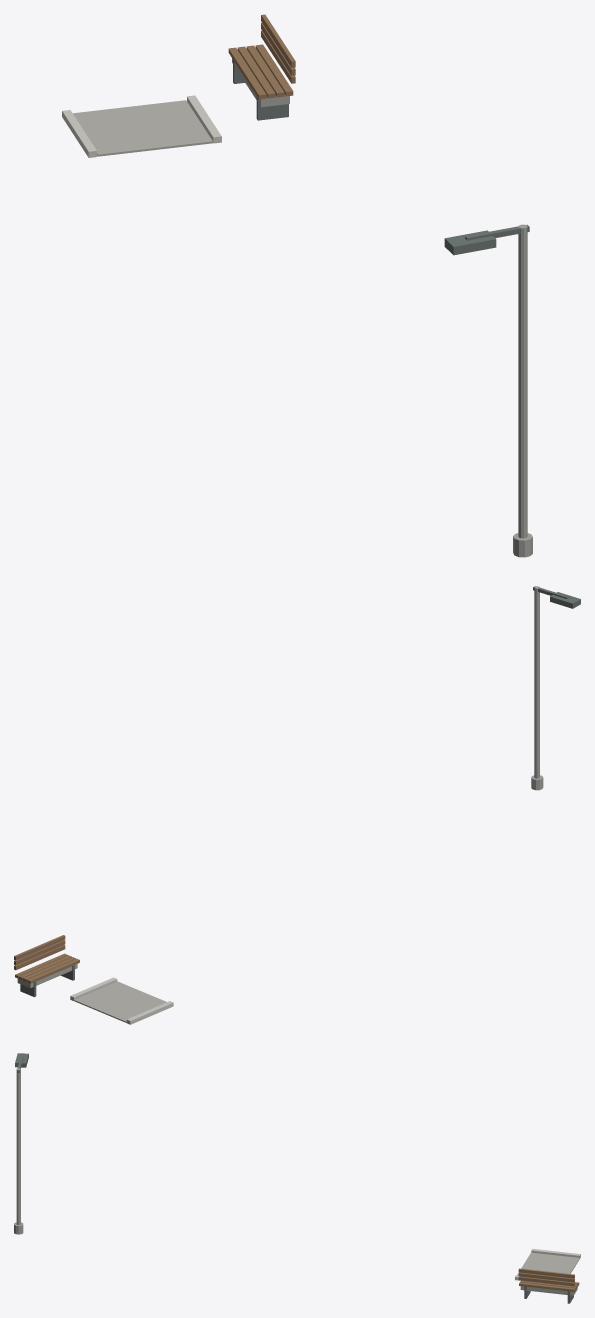
Rendered from district_0_1.glb.
3 renders of one model, top to bottom at view 1: azimuth 30°, elevation 25°; view 2: azimuth 150°, elevation 25°; view 3: azimuth 270°, elevation 25°, orthographic. The views are drawn at different scales.
Parts seen in each view (by area): view 1: CityPaving, CitySolid, CityWood, CityMetal, CityCurbs; view 2: CityPaving, CityWood, CitySolid, CityMetal, CityCurbs; view 3: CitySolid, CityWood, CityPaving.
Boxes of the visible parts, bbox=[...] form: CityPaving: bbox=[73, 100, 212, 156]; CitySolid: bbox=[232, 58, 532, 557]; CityWood: bbox=[228, 14, 295, 99]; CityMetal: bbox=[233, 60, 529, 255]; CityCurbs: bbox=[62, 95, 221, 157]; CityPaving: bbox=[74, 981, 166, 1022]; CityWood: bbox=[14, 935, 79, 983]; CitySolid: bbox=[17, 586, 543, 988]; CityMetal: bbox=[20, 586, 580, 997]; CityCurbs: bbox=[70, 977, 173, 1024]; CitySolid: bbox=[14, 1068, 577, 1295]; CityWood: bbox=[518, 1268, 579, 1291]; CityPaving: bbox=[517, 1252, 579, 1275].
Bounding box in the file's own units: 6.84 × 5.8 × 18.24.
